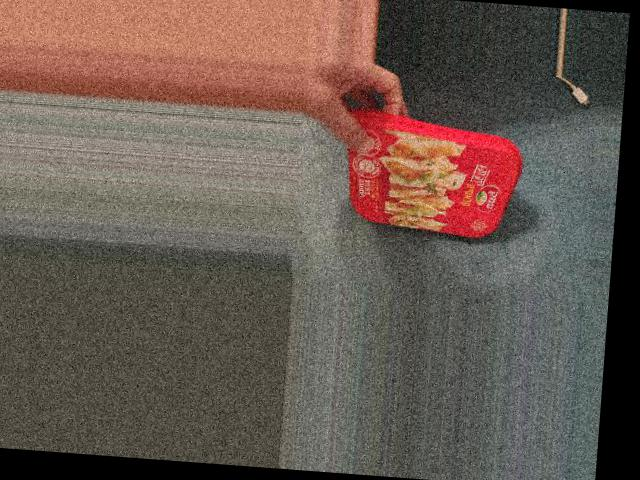cheese: (346, 115, 515, 244)
